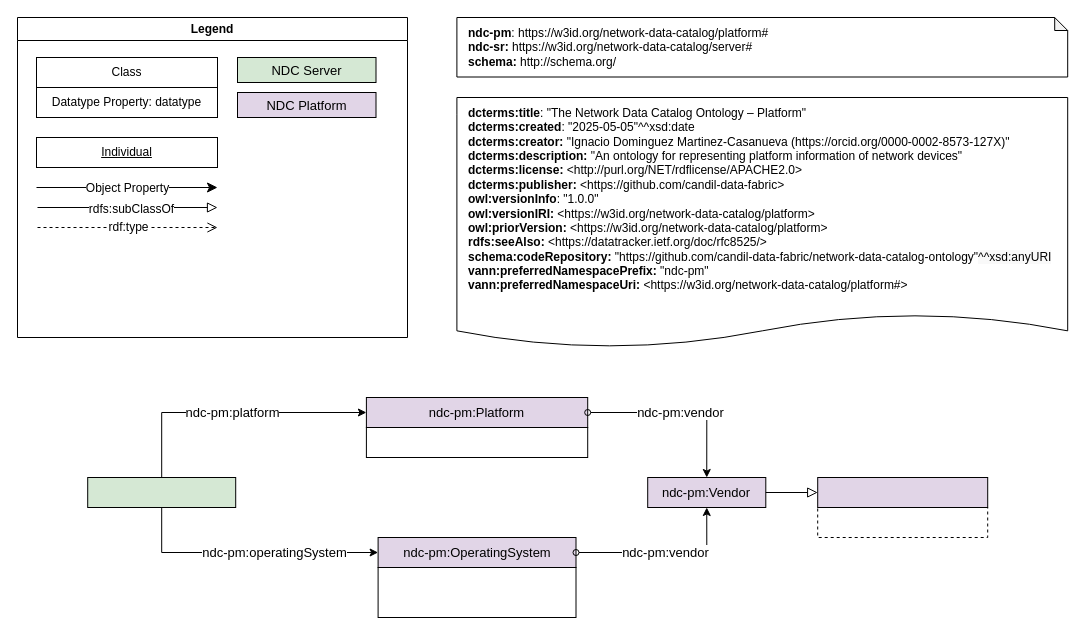
Some shapes in this 1086 by 635 pixel diagram are drawn without their labels. Here are the shapes that lost their labels. From the top down, the centre of each, then its label:
At point (476, 442): "ndc-pm:platformName: xsd:string".
At point (161, 492): "ndc-sr:NetworkDevice".
At point (902, 492): "schema:Organization".
At point (902, 522): "schema:name: xsd:string".
At point (476, 592): "ndc-pm:osName: xsd:string ndc-pm:osVersion: xsd:string".
